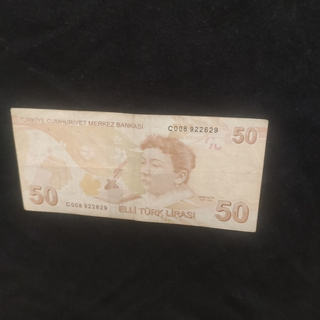50TLBack: (10, 106, 269, 233)
